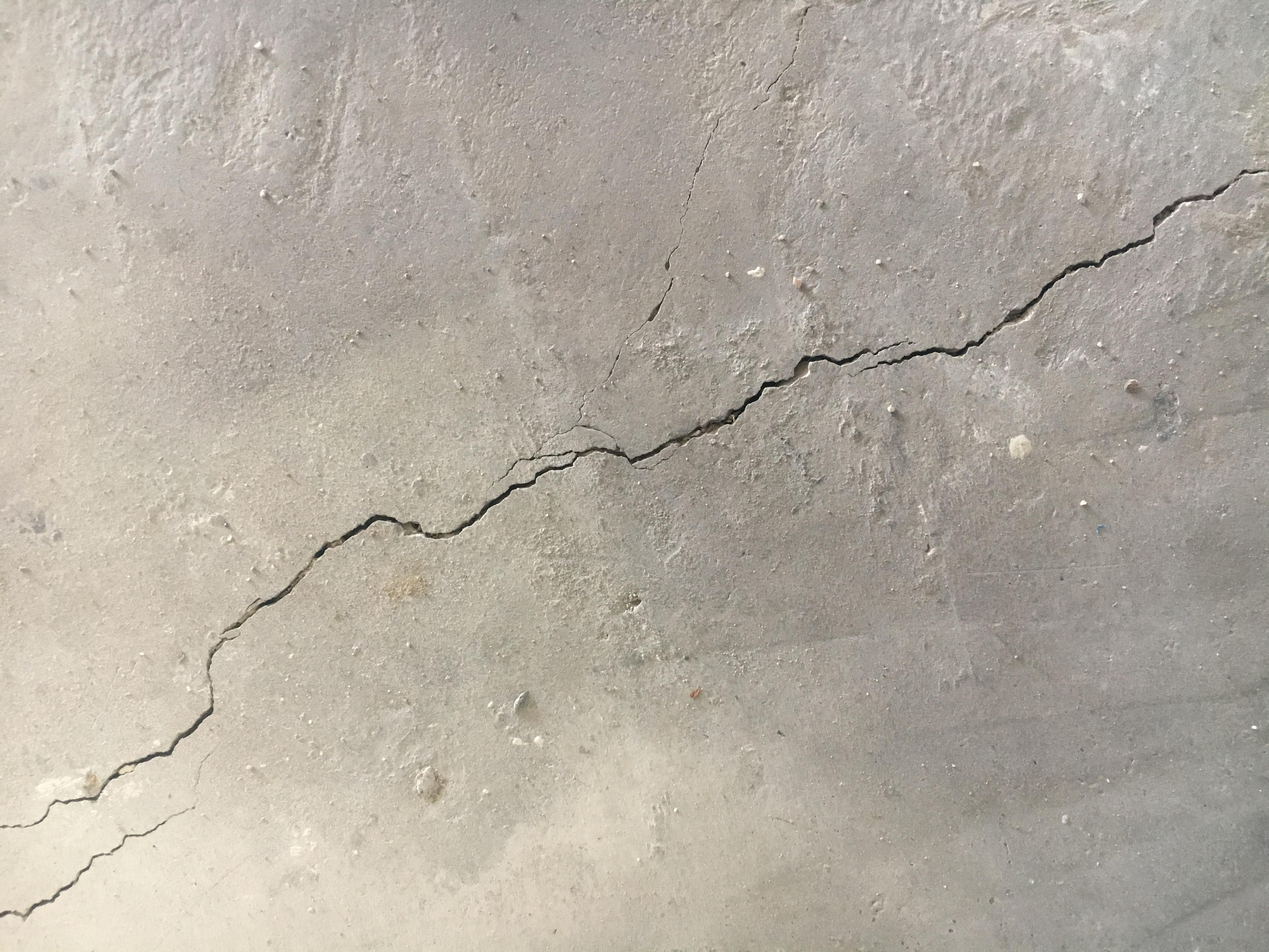Diagonal Crack: (3, 161, 1265, 923)
